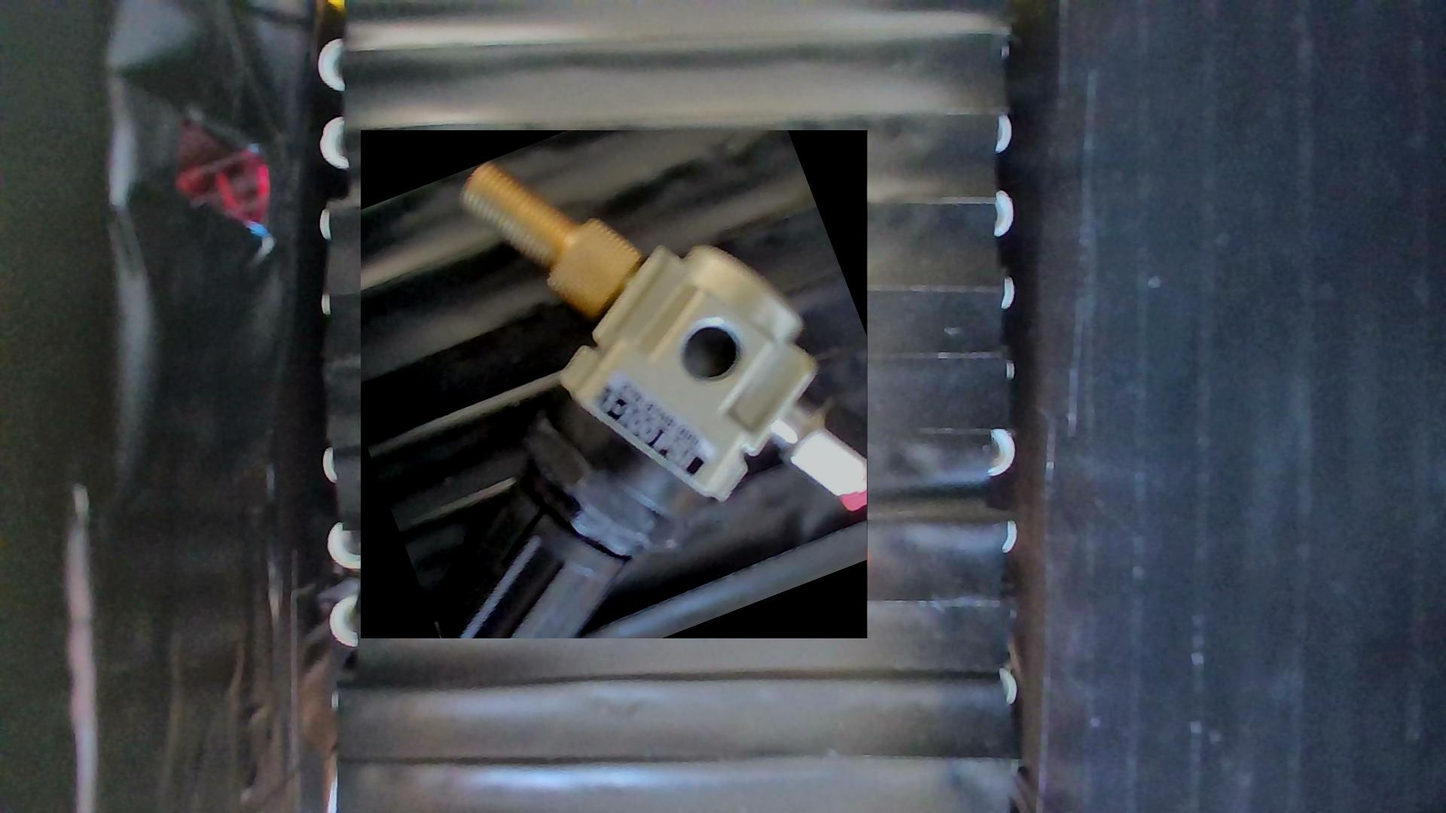regulator: (361, 131, 868, 639)
